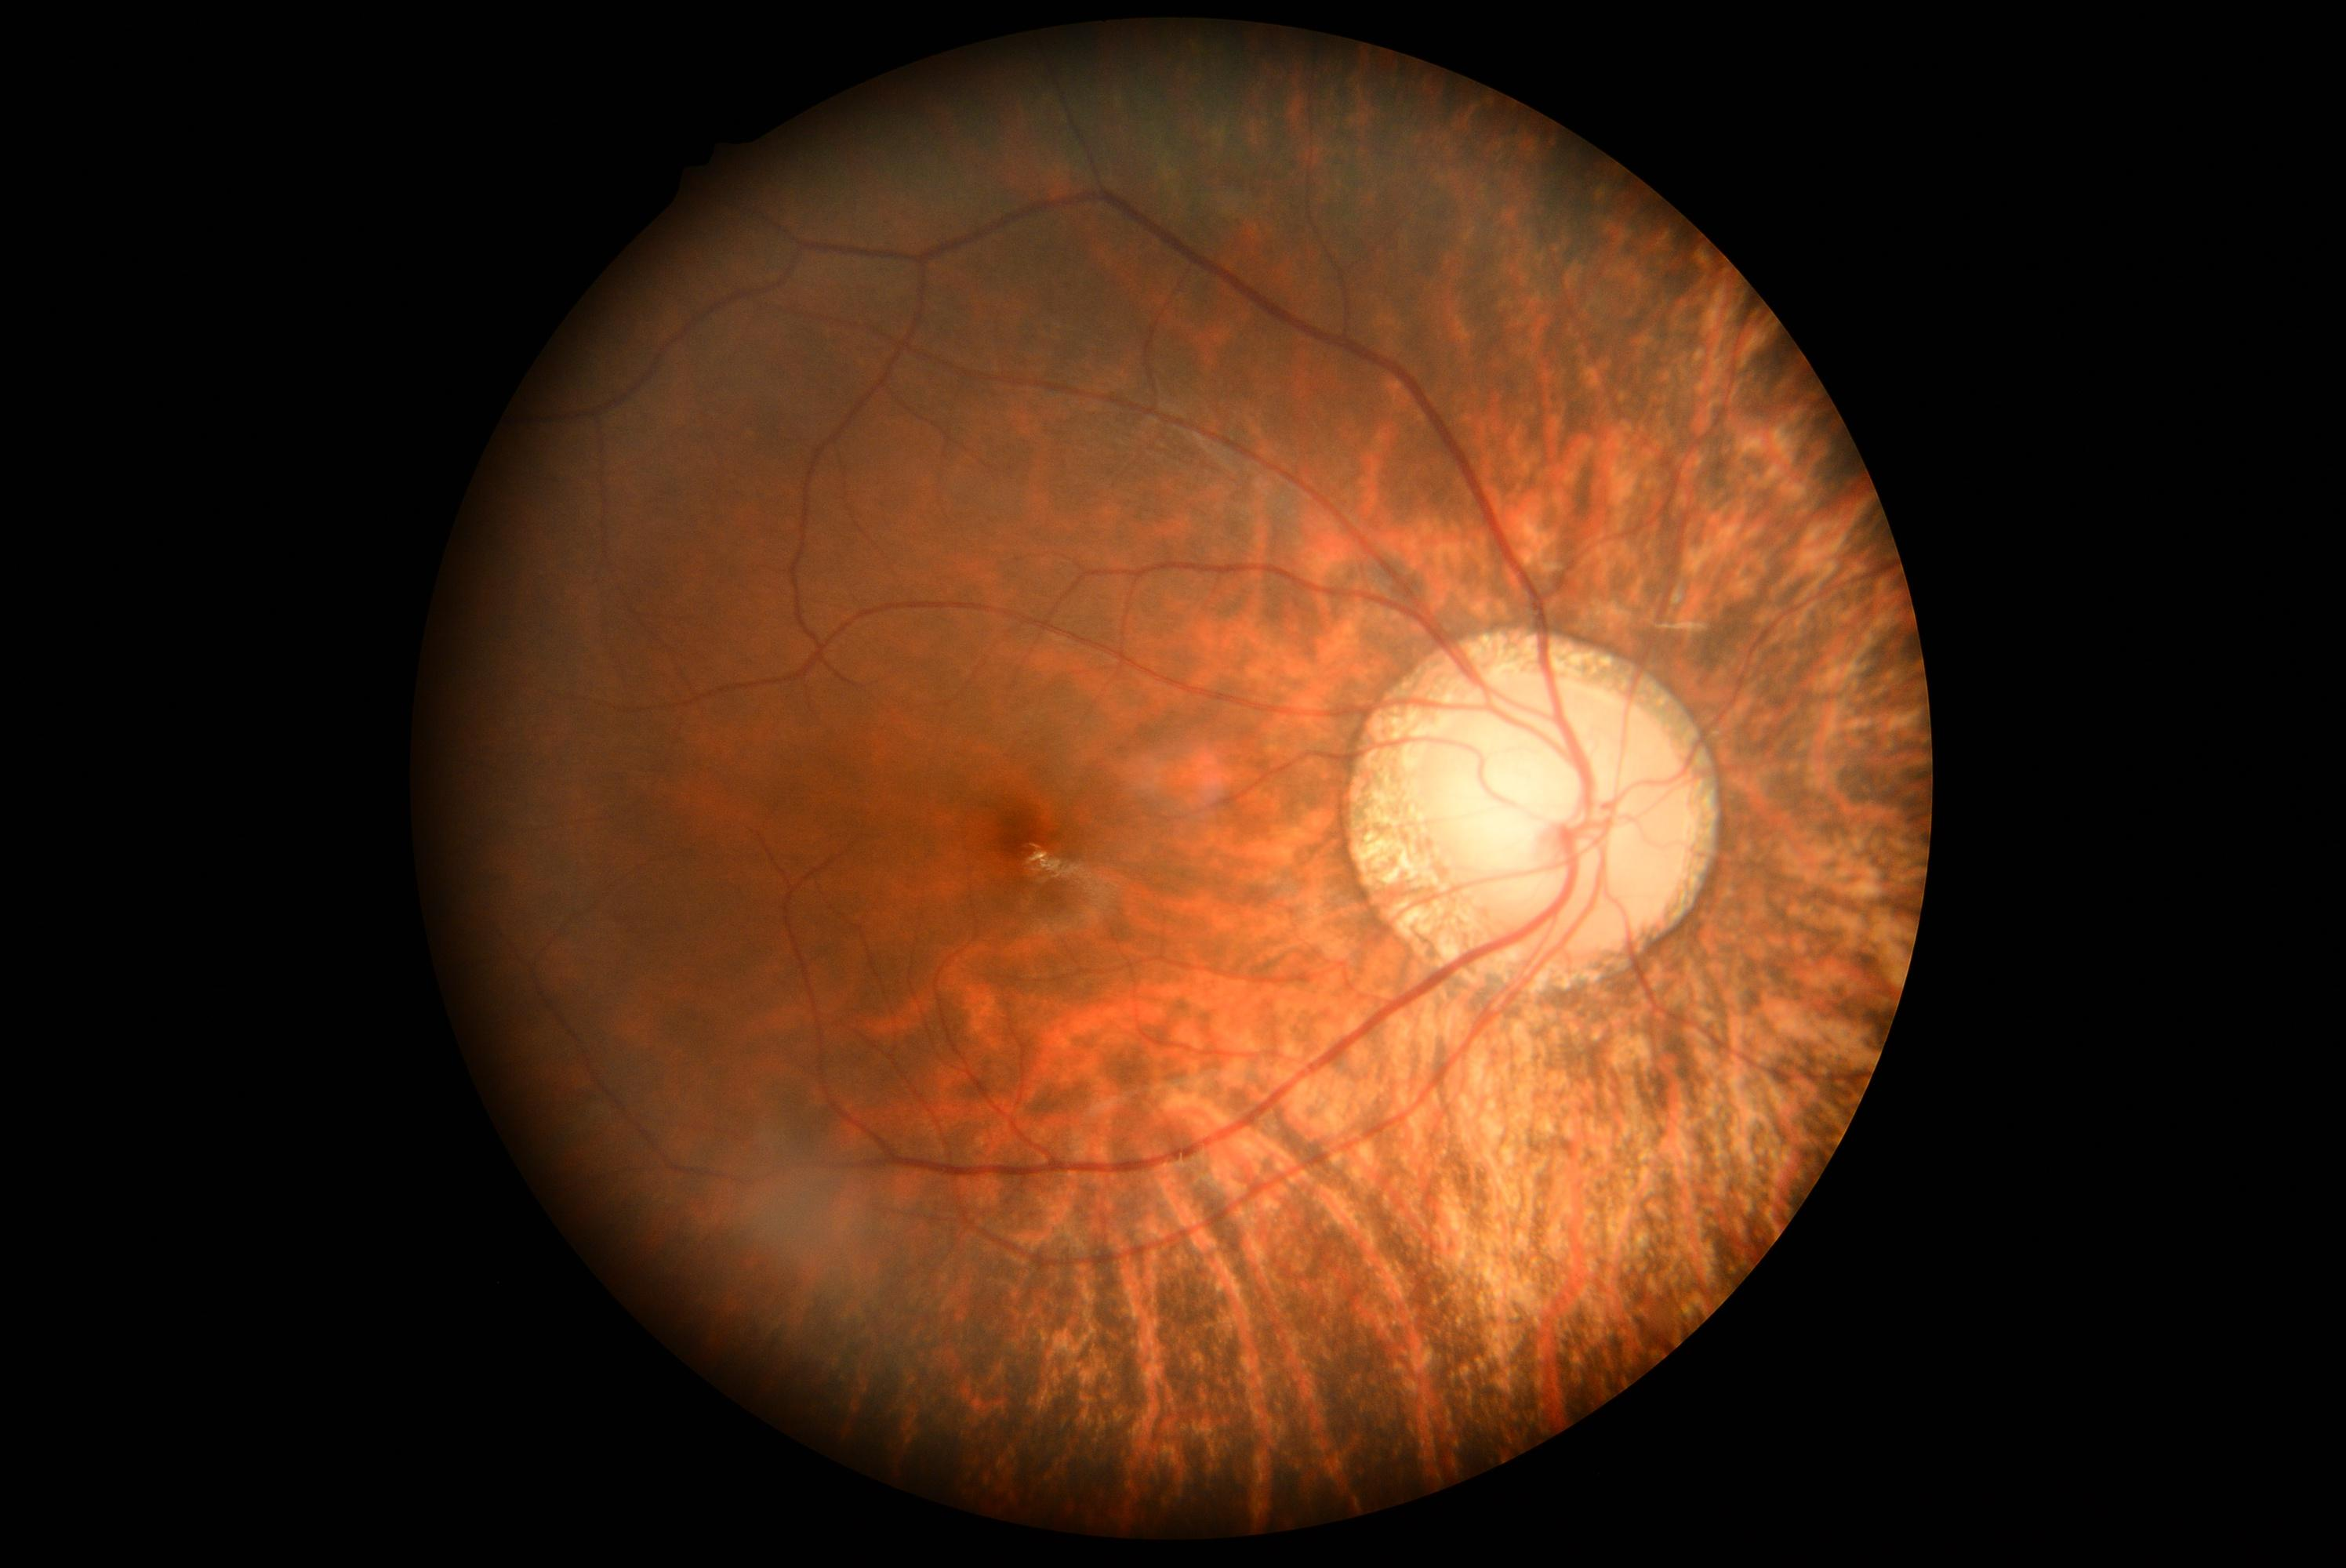Fovea: (943, 759, 1100, 912)
